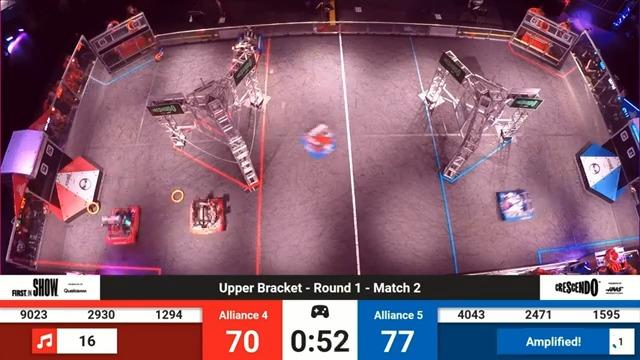robot: (186, 192, 234, 239), (99, 202, 144, 248), (497, 186, 544, 225), (302, 121, 344, 160), (232, 21, 269, 54), (226, 39, 261, 68)
